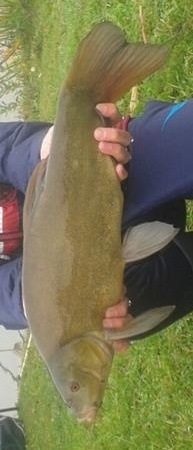Tinca tinca: (20, 20, 173, 430)
